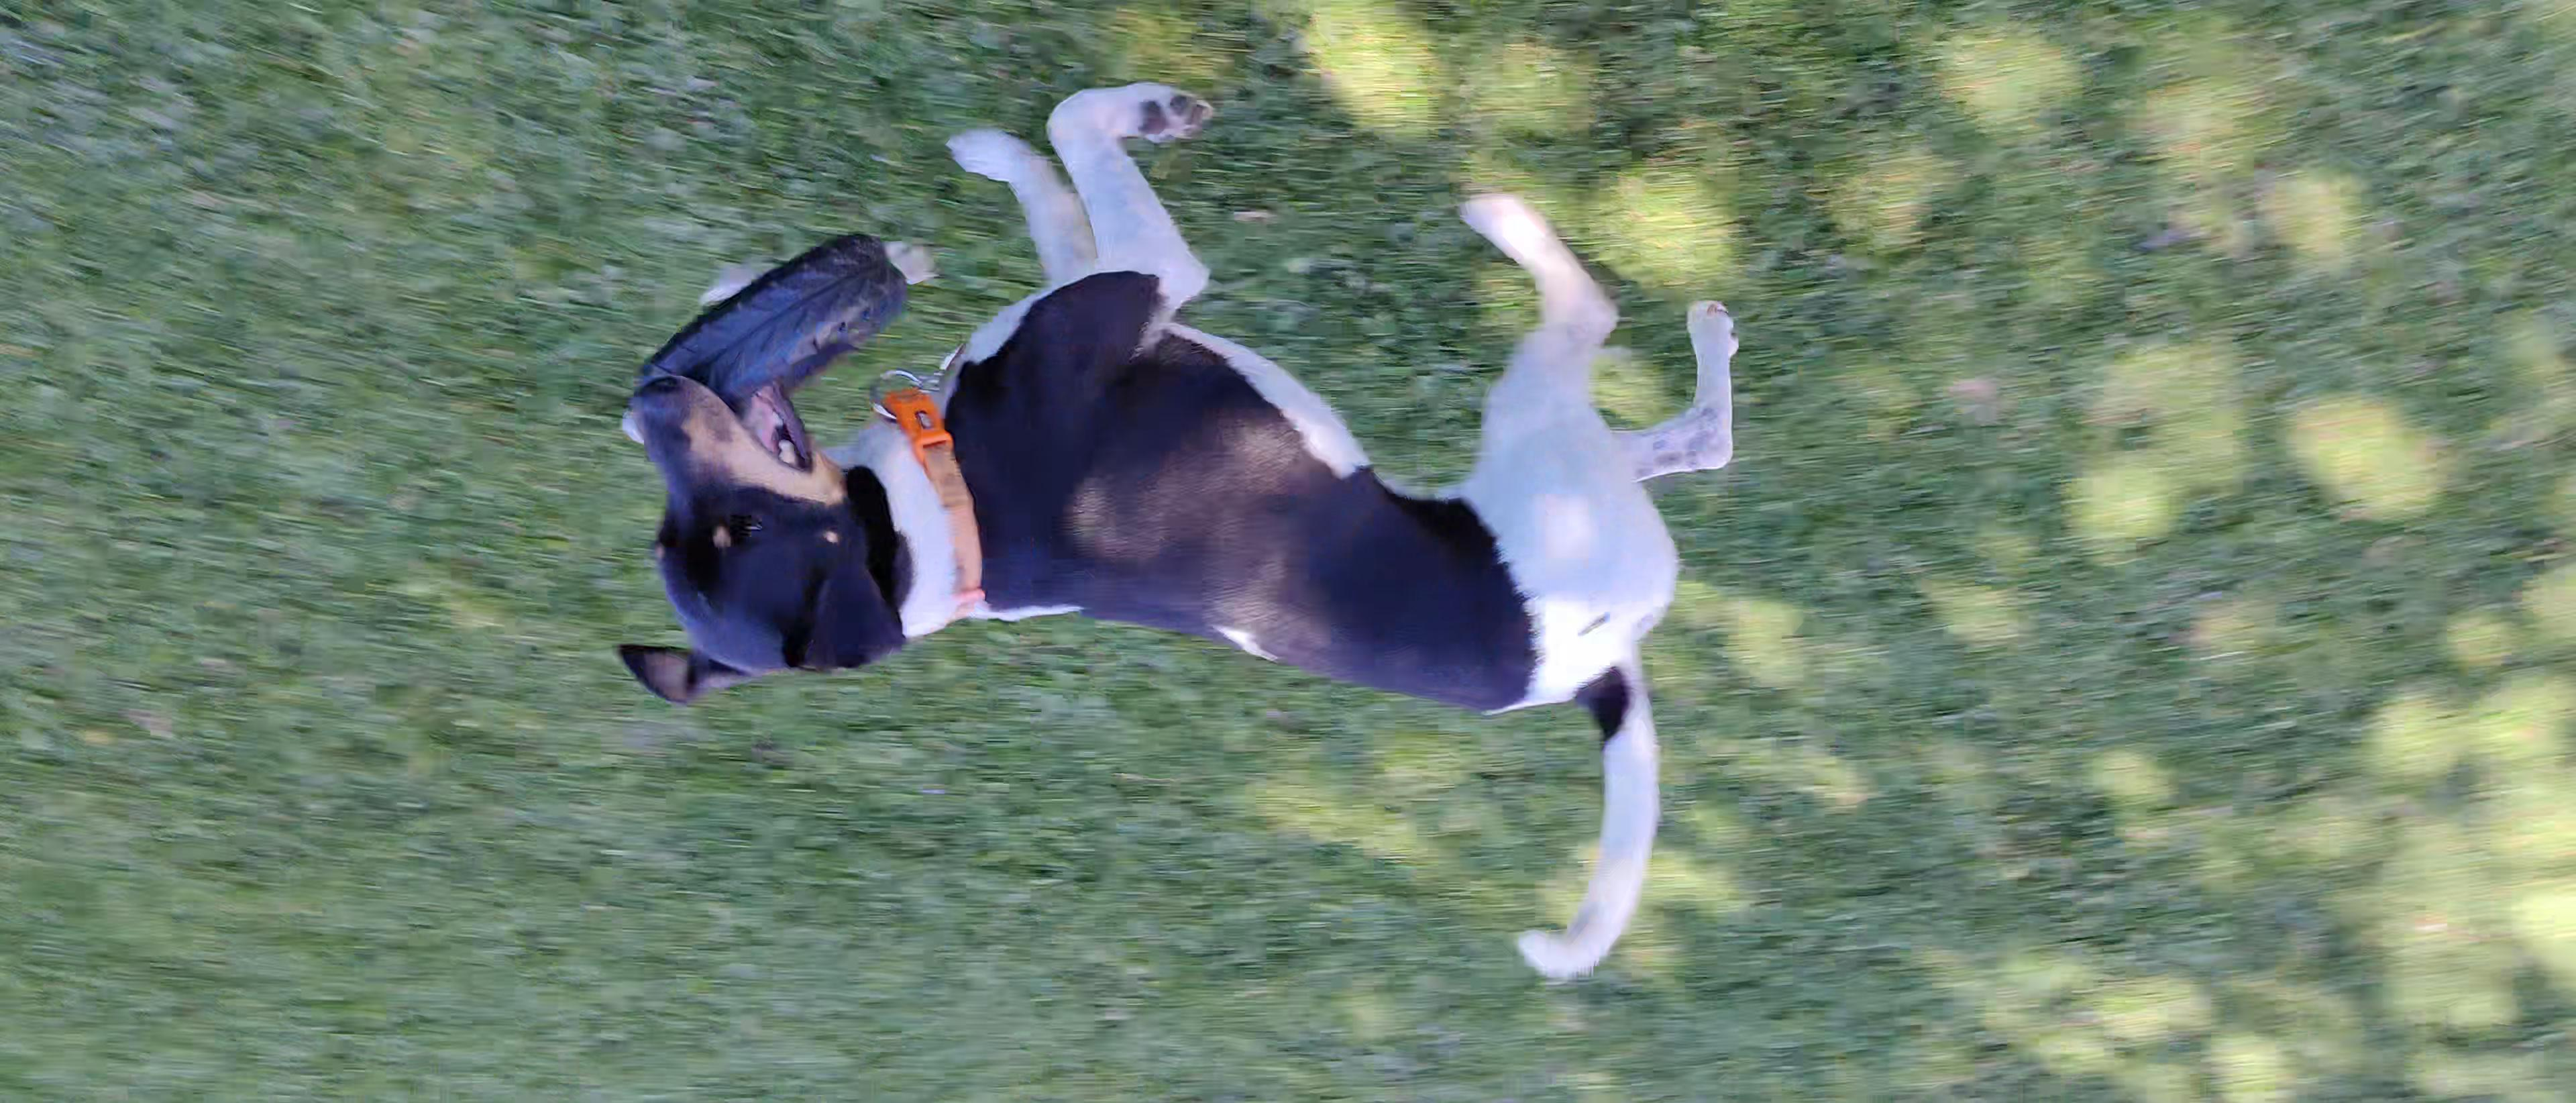Dog: (608, 69, 1748, 986)
